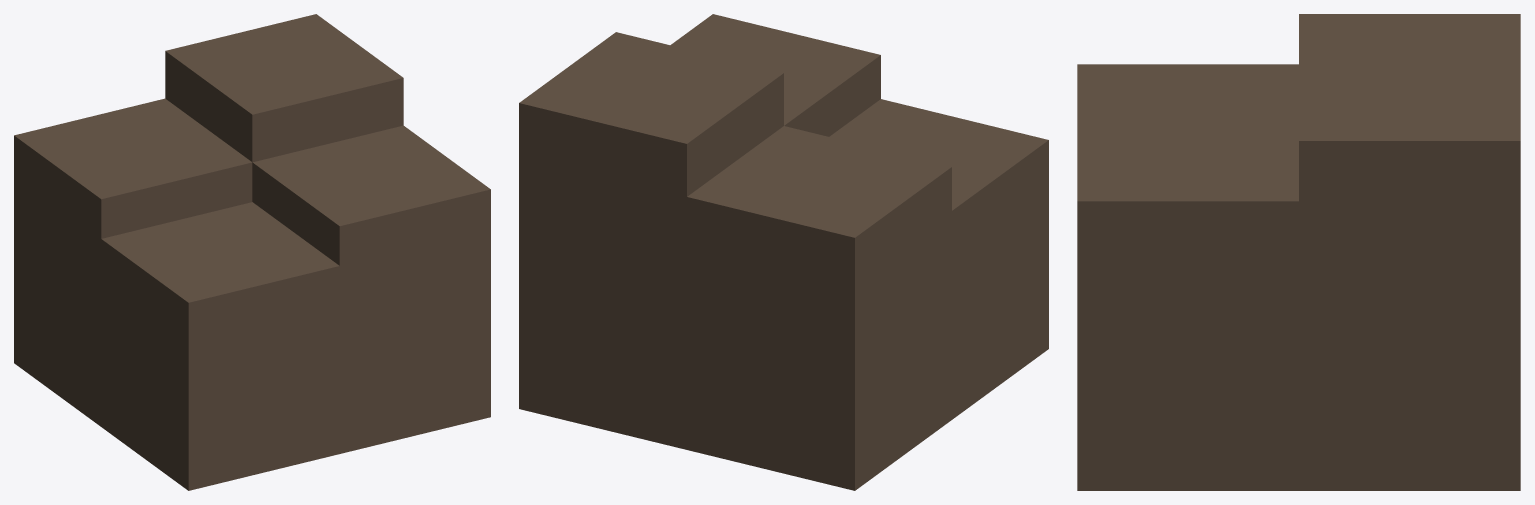
Rendered from Rock.fbx.
3 views of the same model, side by side, from view 1: azimuth 30°, elevation 25°; view 2: azimuth 150°, elevation 25°; view 3: azimuth 270°, elevation 25° (orthographic). The views are drawn at different scales.
Visible parts, largest first — view 1: Cube; view 2: Cube; view 3: Cube.
Part boxes in pixels (box(x1,y1,x2,y2)): Cube: box(14, 14, 490, 490); Cube: box(519, 14, 1048, 490); Cube: box(1077, 14, 1520, 490).
Bounding box in the file's own units: 91.93 × 80.03 × 91.93.
